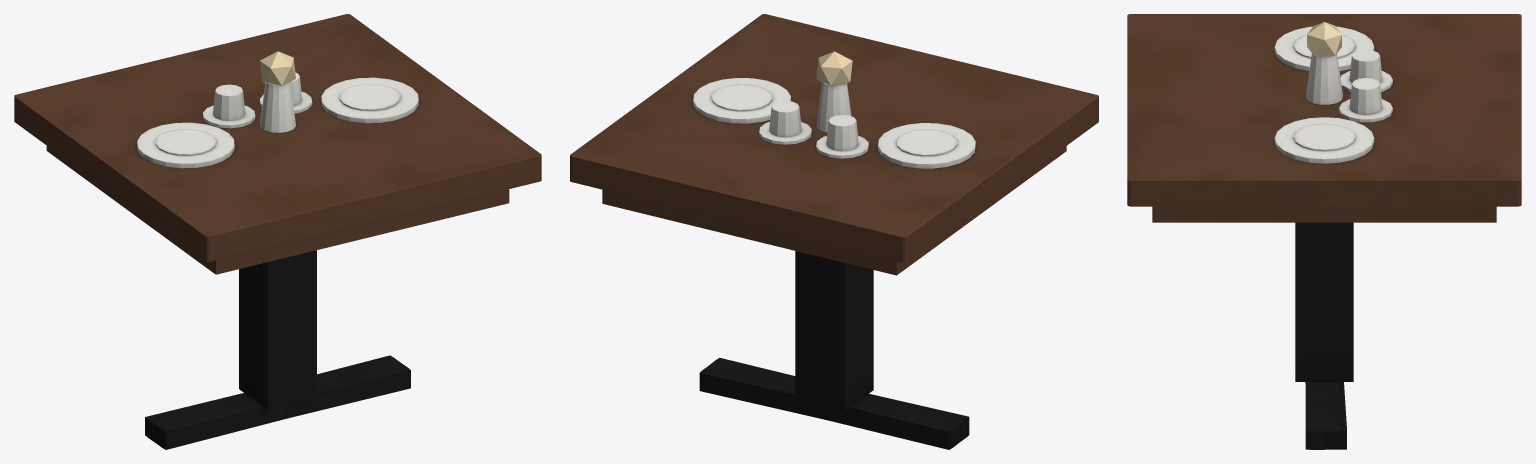
Rendered from breakfast_table_two.glb.
3 views of the same model, side by side, from view 1: azimuth 30°, elevation 25°; view 2: azimuth 150°, elevation 25°; view 3: azimuth 270°, elevation 25° (orthographic).
Parts seen in each view (by area): view 1: breakfast_table_two; view 2: breakfast_table_two; view 3: breakfast_table_two.
Part boxes in pixels (x1,y1,x2,y2): breakfast_table_two: [14, 14, 541, 449]; breakfast_table_two: [570, 14, 1098, 449]; breakfast_table_two: [1127, 14, 1521, 449].
Bounding box in the file's own units: 0.95 × 0.975 × 0.95.
Materials: 1 (1 with a texture image).
